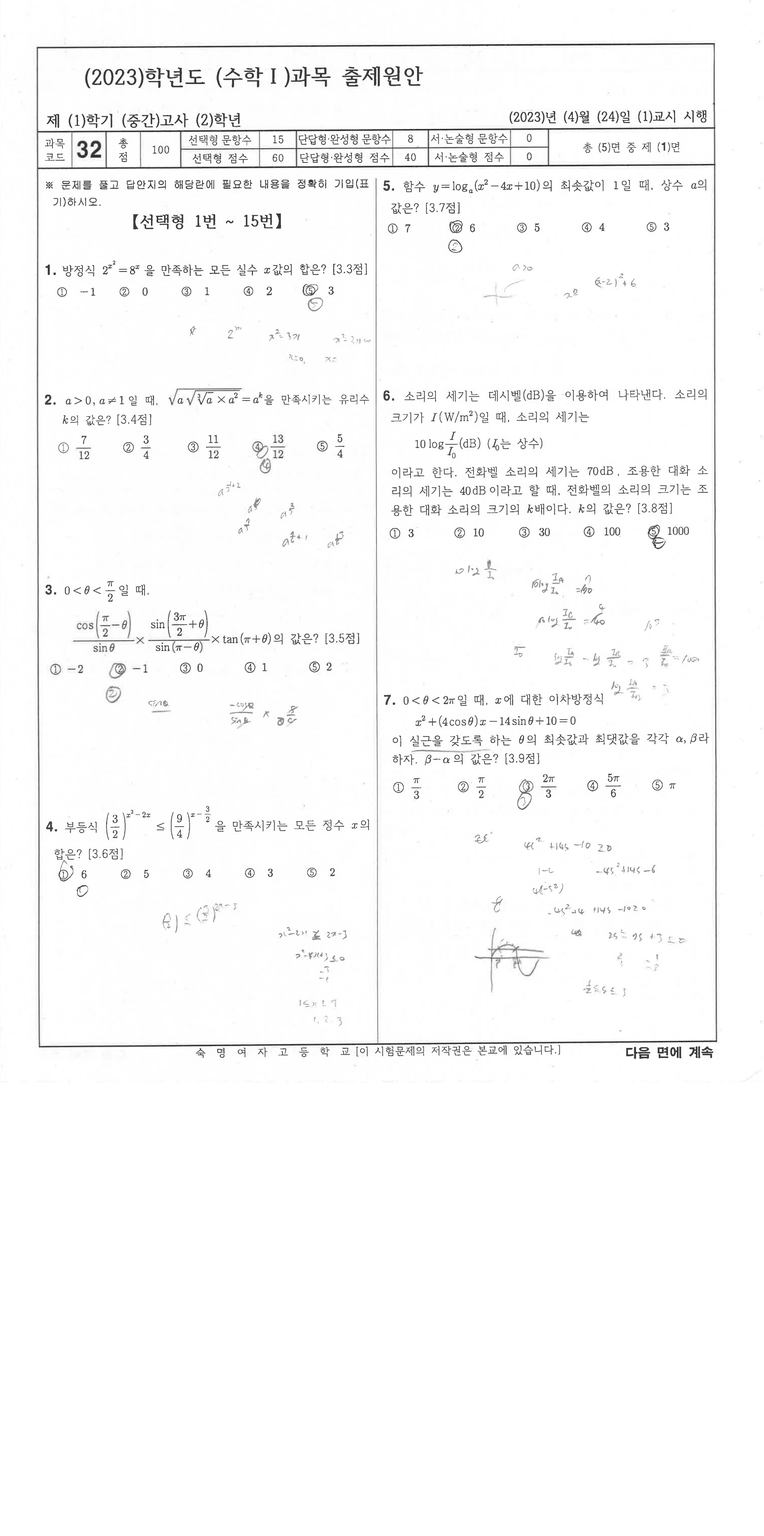problem: (380, 382, 712, 552), (381, 686, 710, 804), (42, 573, 363, 684), (44, 797, 373, 892), (40, 381, 370, 471), (380, 170, 709, 248), (40, 255, 372, 301)
